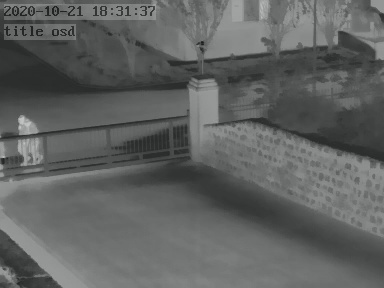person: (17, 113, 41, 166)
